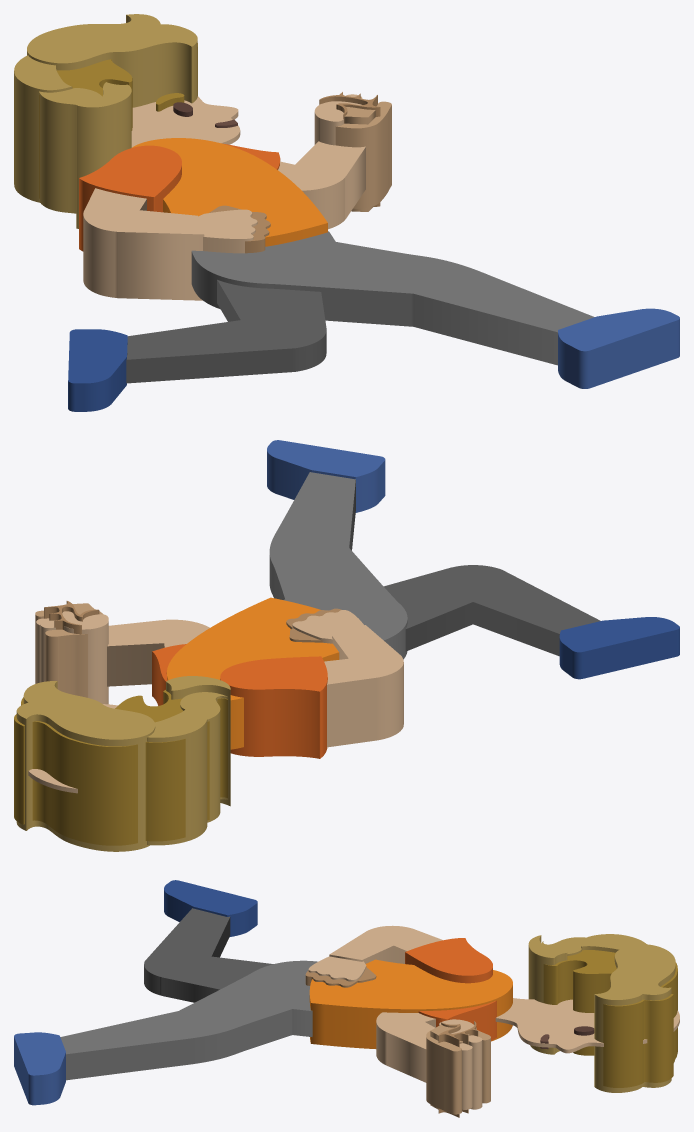
Rendered from emoji_u1f3c3_1f3fc_200d_27a1.glb.
The picture shows the model from 3 angles, top to bottom: view 1: azimuth 30°, elevation 25°; view 2: azimuth 150°, elevation 25°; view 3: azimuth 270°, elevation 25°; orthographic projection. The views are drawn at different scales.
Parts seen in each view (by area): view 1: emoji_u1f3c3_1f3fc_200d_27a1; view 2: emoji_u1f3c3_1f3fc_200d_27a1; view 3: emoji_u1f3c3_1f3fc_200d_27a1.
Boxes of the visible parts, x1,y1,x2,y2 form: emoji_u1f3c3_1f3fc_200d_27a1: (14, 14, 679, 411); emoji_u1f3c3_1f3fc_200d_27a1: (14, 440, 679, 851); emoji_u1f3c3_1f3fc_200d_27a1: (14, 880, 679, 1117).
Size of the model in its own units: 0.023 by 0.0052 by 0.0325.
